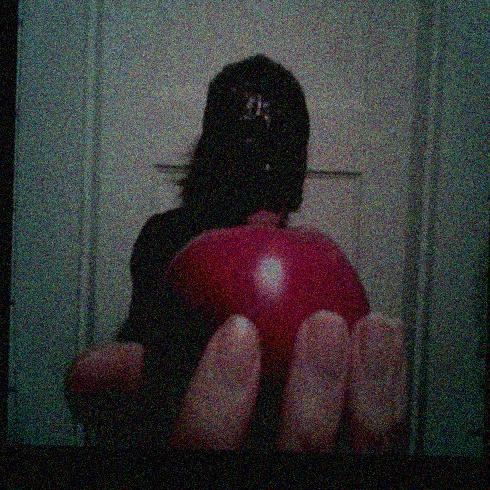red apple: (156, 222, 387, 382)
